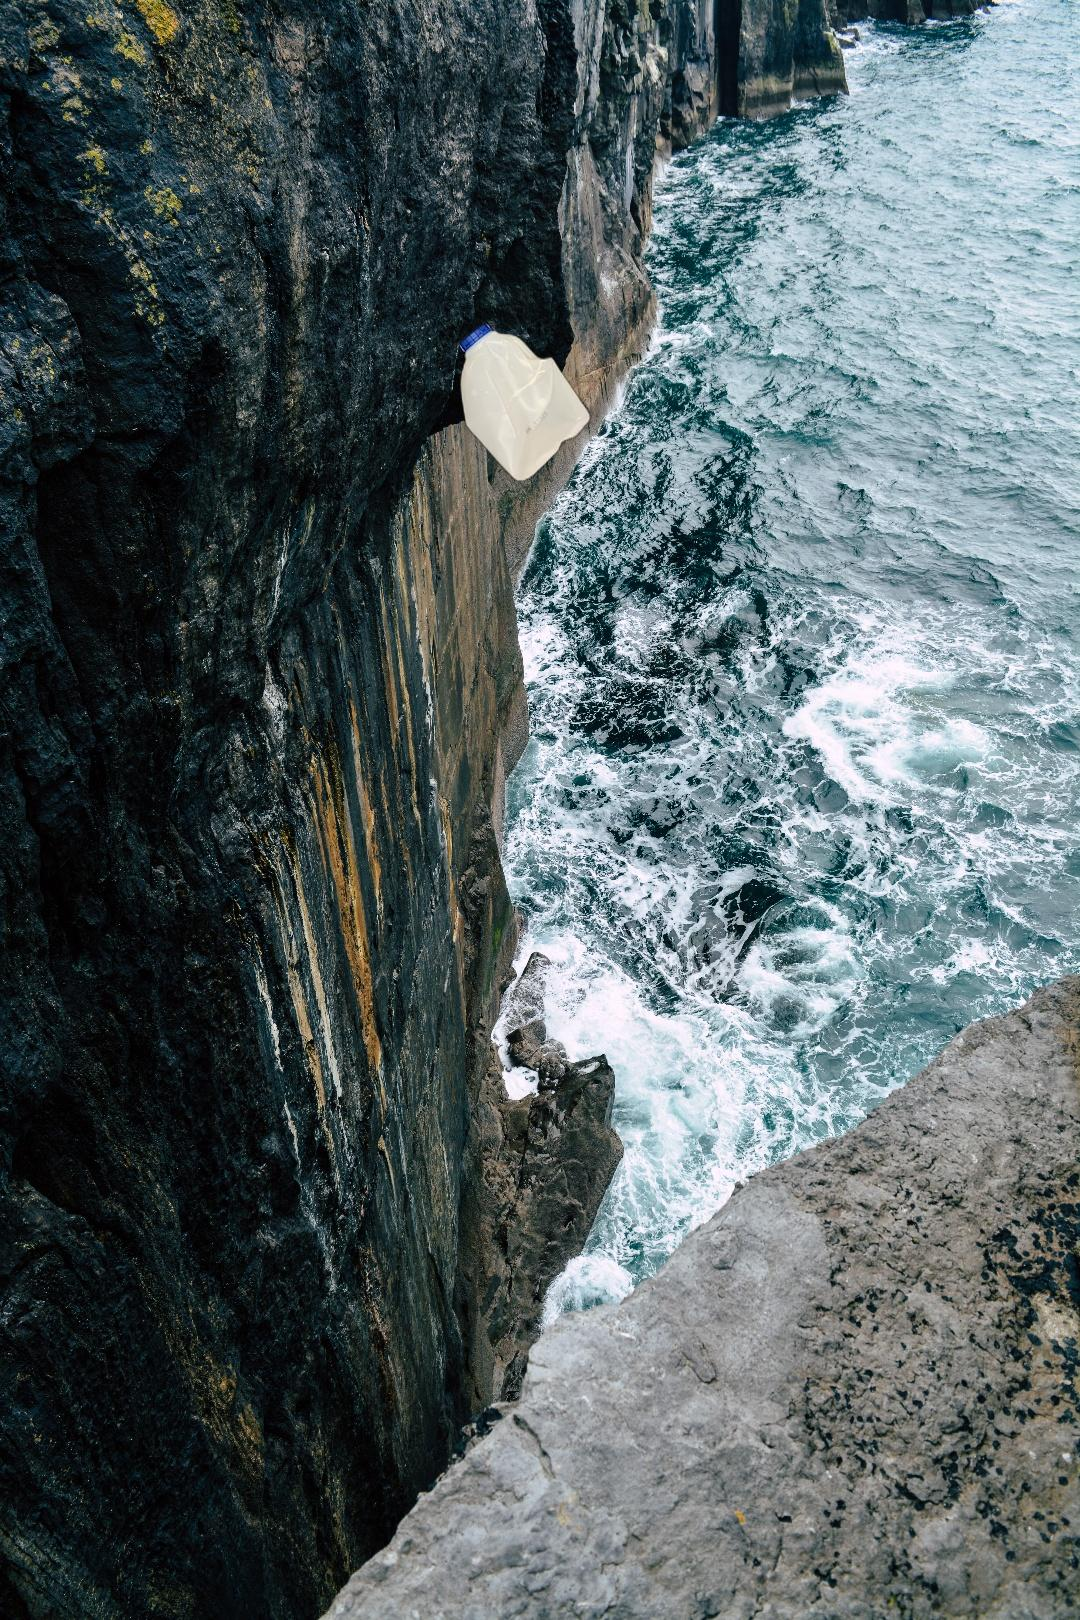plastic-bottles: (454, 316, 595, 488)
